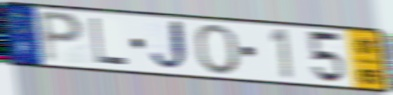1: (269, 27, 295, 82)
5: (303, 28, 347, 85)
J: (148, 18, 192, 74)
L: (88, 16, 130, 67)
O: (192, 23, 242, 77)
P: (36, 8, 87, 66)
